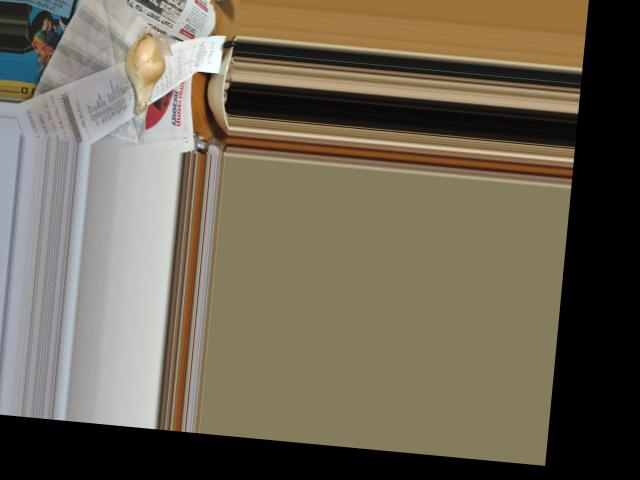onion: (120, 32, 171, 111)
